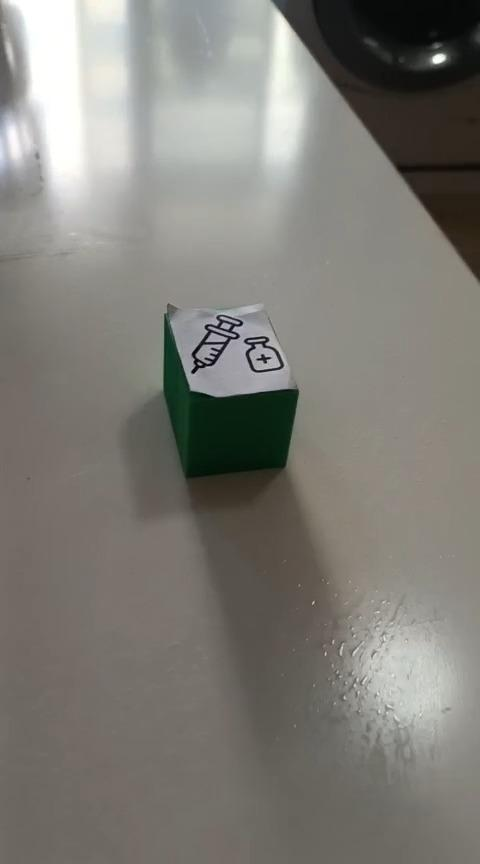antiseptic cream: (161, 300, 300, 479)
